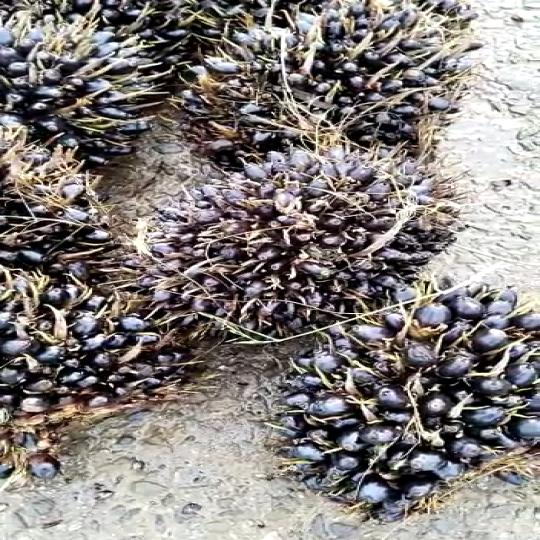mentah: (260, 278, 540, 530), (146, 140, 450, 326), (187, 0, 476, 166), (0, 254, 205, 482), (0, 0, 195, 160), (0, 109, 162, 270)
